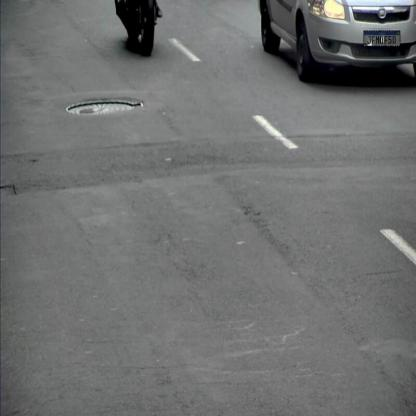PlacaM: (364, 30, 400, 46)
